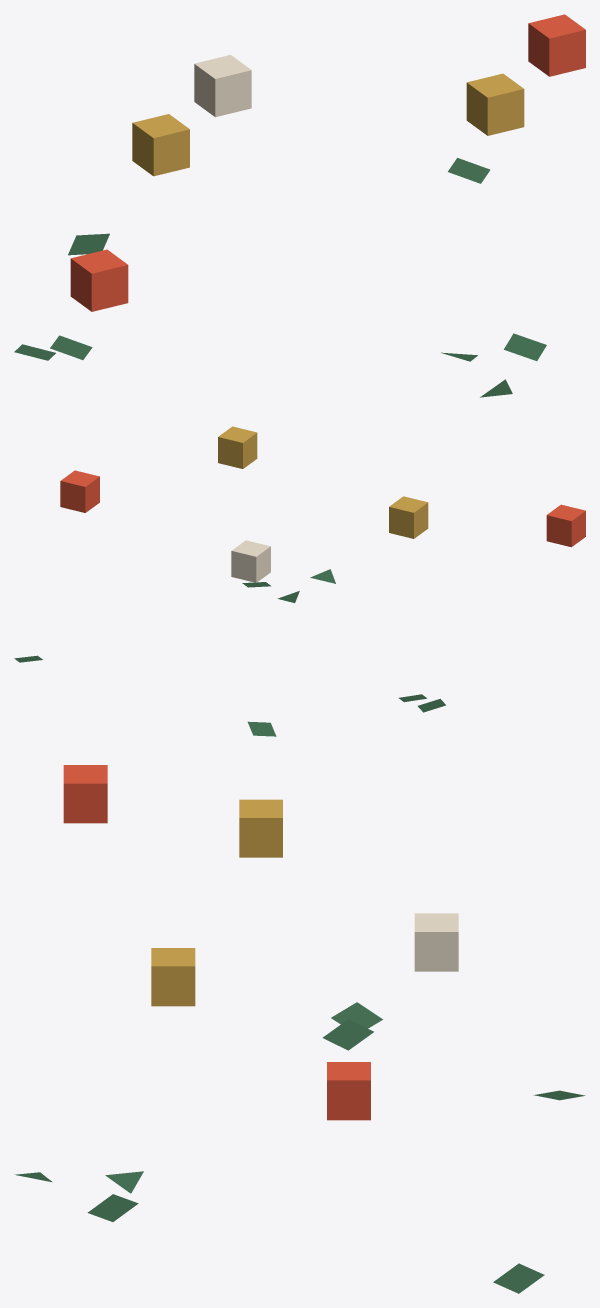
File: terrain_bush_flower_lod1.glb
The picture shows the model from 3 angles, top to bottom: view 1: azimuth 30°, elevation 25°; view 2: azimuth 150°, elevation 25°; view 3: azimuth 270°, elevation 25°; orthographic projection. The views are drawn at different scales.
Parts seen in each view (by area): view 1: terrain_bush_flower_lod1; view 2: terrain_bush_flower_lod1; view 3: terrain_bush_flower_lod1.
Part boxes in pixels (x1,y1,x2,y2): terrain_bush_flower_lod1: (14,14,585,397); terrain_bush_flower_lod1: (14,426,585,736); terrain_bush_flower_lod1: (14,765,585,1293).
Size of the model in its own units: 1.7 by 0.6448 by 1.3.
